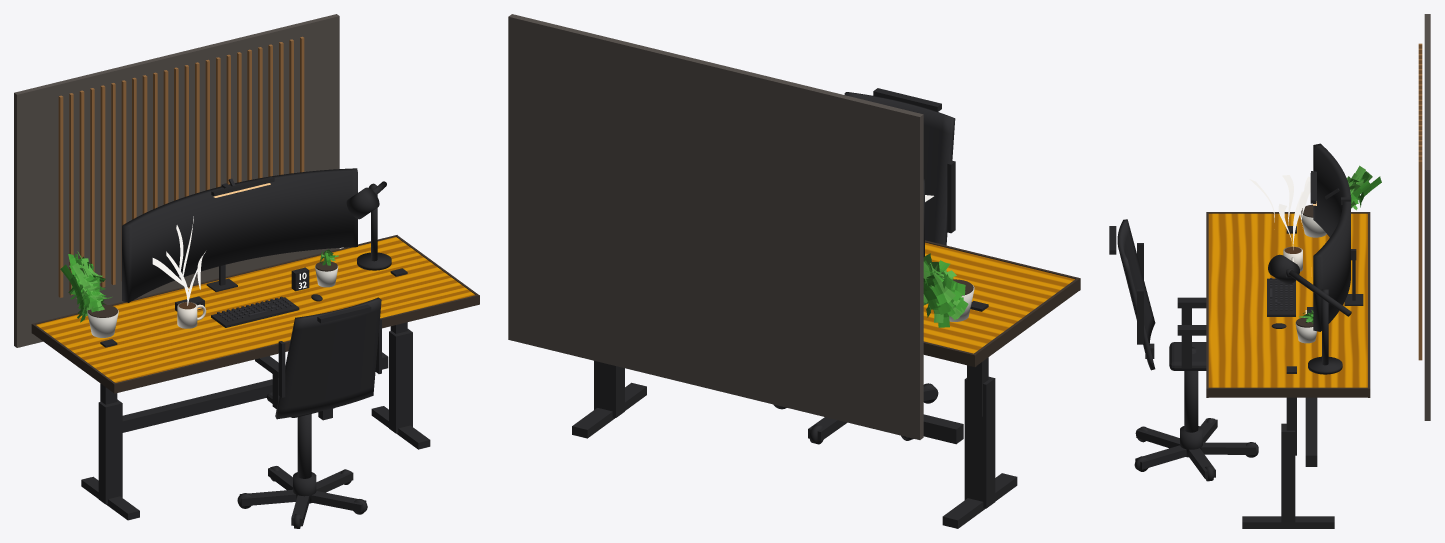
File: desk_scene.glb
3 views of the same model, side by side, from view 1: azimuth 30°, elevation 25°; view 2: azimuth 150°, elevation 25°; view 3: azimuth 270°, elevation 25° (orthographic). The views are drawn at different scales.
Visible parts, largest first — view 1: BackWall, Desk_Top, SlatPanel, Monitor_Body, Chair_Back, Edge_Front, Crossbar, ColLo_L, ColLo_R, PlantL_Foliage, KB_Base, Edge_Left (+8 smaller); view 2: BackWall, Desk_Top, Chair_Back, ColLo_L, PlantL_Foliage, Edge_Left, ColLo_R, Foot_L, Foot_R, ColUp_L, Crossbar, Edge_Back; view 3: Desk_Top, Monitor_Body, BackWall, Chair_Back, Edge_Right, SlatPanel, ColLo_R, Foot_R, Chair_GasCyl, Crossbar, KB_Base, Chair_Seat (+14 smaller).
Boxes of the visible parts, bbox=[...] form: BackWall: bbox=[14, 14, 339, 347]; Desk_Top: bbox=[36, 237, 475, 382]; SlatPanel: bbox=[58, 36, 304, 297]; Monitor_Body: bbox=[122, 168, 357, 302]; Chair_Back: bbox=[275, 297, 381, 419]; Edge_Front: bbox=[113, 295, 479, 393]; Crossbar: bbox=[122, 352, 388, 432]; ColLo_L: bbox=[98, 399, 122, 504]; ColLo_R: bbox=[389, 329, 412, 433]; PlantL_Foliage: bbox=[60, 251, 112, 322]; KB_Base: bbox=[211, 297, 299, 327]; Edge_Left: bbox=[33, 324, 115, 392]; BackWall: bbox=[508, 14, 923, 439]; Desk_Top: bbox=[923, 242, 1074, 353]; Chair_Back: bbox=[844, 92, 955, 245]; ColLo_L: bbox=[964, 376, 995, 508]; PlantL_Foliage: bbox=[923, 253, 968, 327]; Edge_Left: bbox=[974, 278, 1078, 365]; ColLo_R: bbox=[594, 361, 624, 417]; Foot_L: bbox=[942, 473, 1017, 528]; Foot_R: bbox=[572, 382, 646, 438]; ColUp_L: bbox=[967, 301, 988, 416]; Crossbar: bbox=[923, 414, 963, 444]; Edge_Back: bbox=[923, 341, 976, 366]; Desk_Top: bbox=[1208, 213, 1367, 387]; Monitor_Body: bbox=[1313, 143, 1350, 331]; BackWall: bbox=[1424, 14, 1430, 420]; Chair_Back: bbox=[1117, 219, 1155, 370]; Edge_Right: bbox=[1208, 387, 1367, 397]; SlatPanel: bbox=[1418, 43, 1422, 360]; ColLo_R: bbox=[1281, 423, 1295, 527]; Foot_R: bbox=[1242, 516, 1334, 528]; Chair_GasCyl: bbox=[1184, 371, 1198, 432]; Crossbar: bbox=[1305, 397, 1317, 466]; KB_Base: bbox=[1267, 278, 1295, 316]; Chair_Seat: bbox=[1169, 342, 1206, 370].
Bounding box in the file's own units: 1.81 × 1.72 × 1.39.
18 materials, 1 textured.
